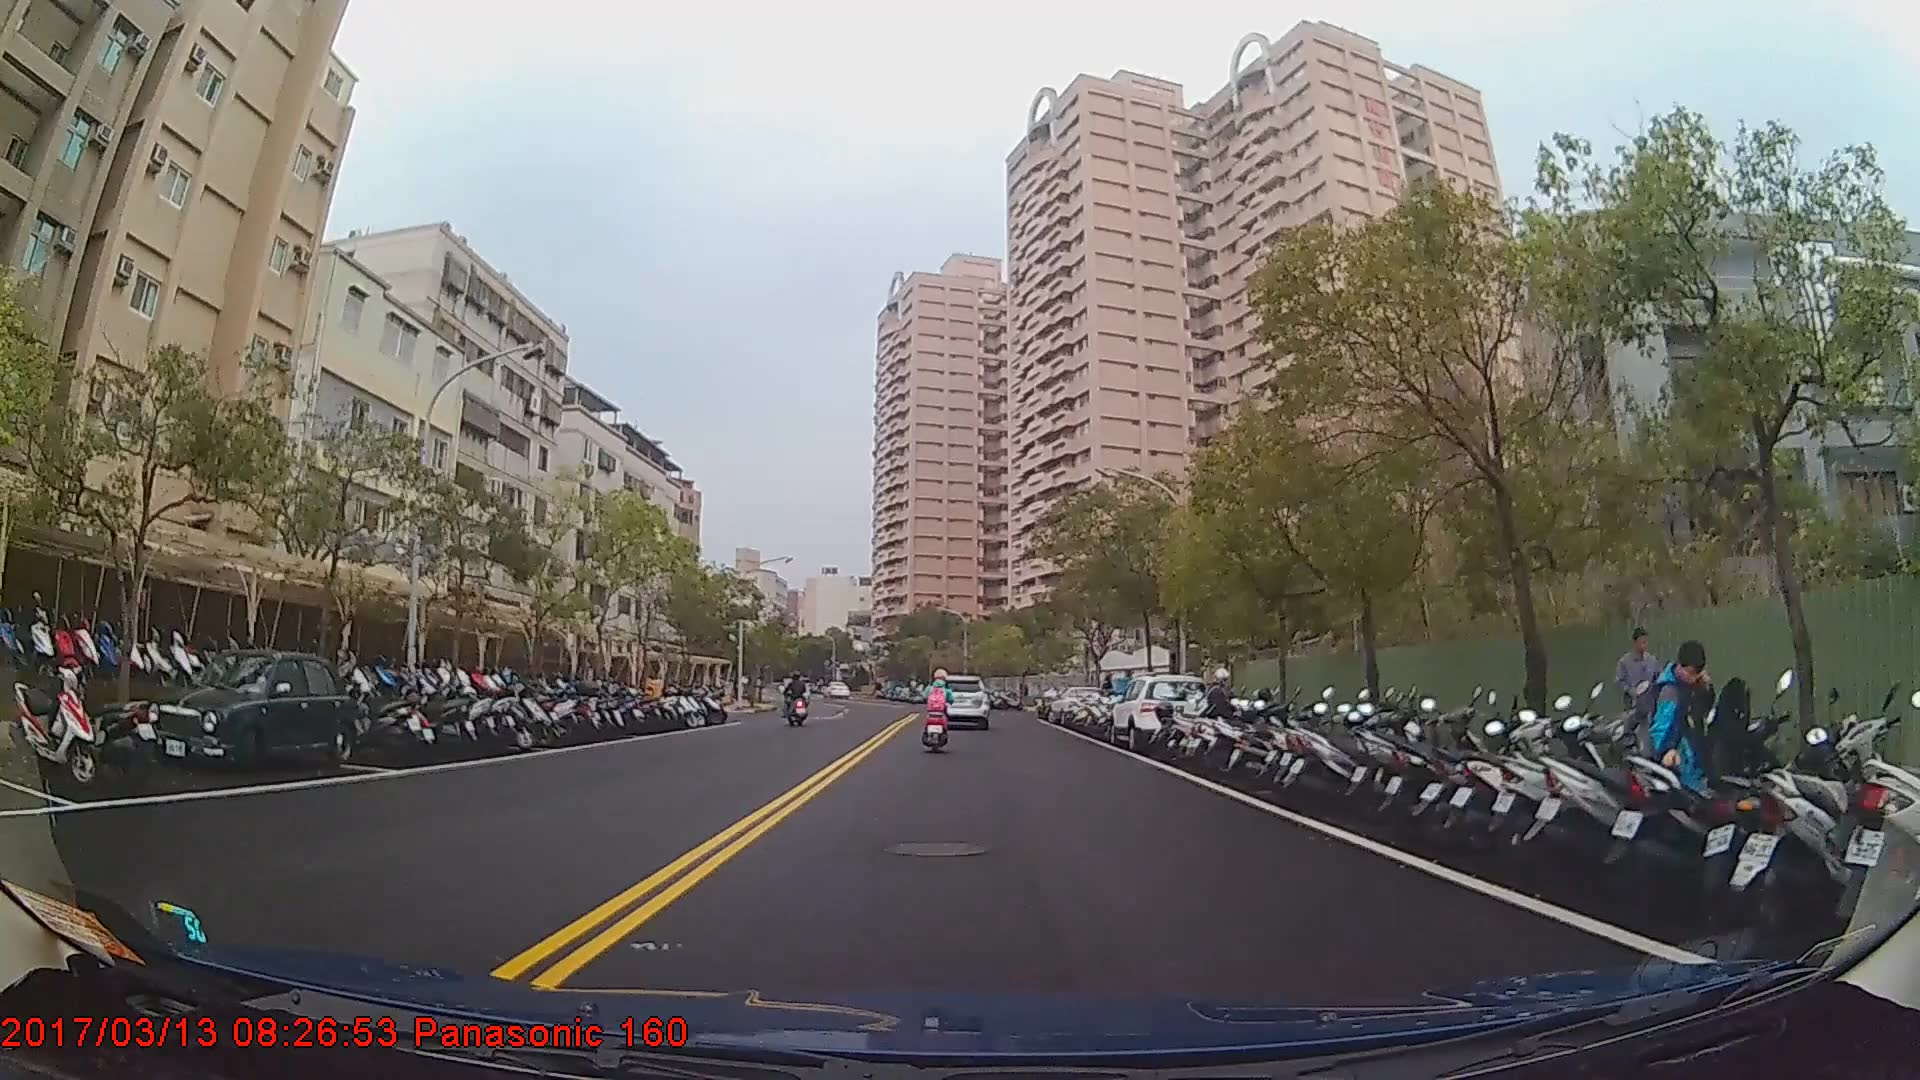pedestrian: (1631, 638, 1751, 877), (1614, 627, 1677, 778)
rider: (921, 669, 957, 754), (785, 671, 810, 731)
vehicle: (145, 648, 352, 781), (1108, 671, 1212, 754), (929, 679, 987, 733)
